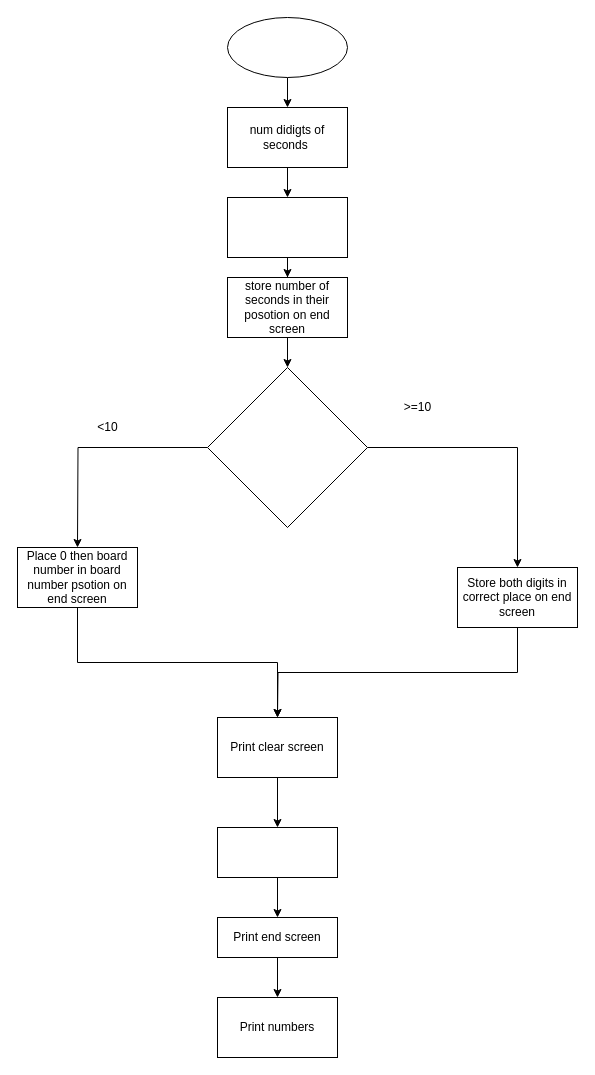
Some shapes in this 595 by 1075 pixel diagram are drawn without their labels. The centre of each missing label's shape, as x and y in pixels:
board num < or > 10: (287,447)
locate center of end screen: (287,227)
Print background: (277,852)
Start: (287,47)
